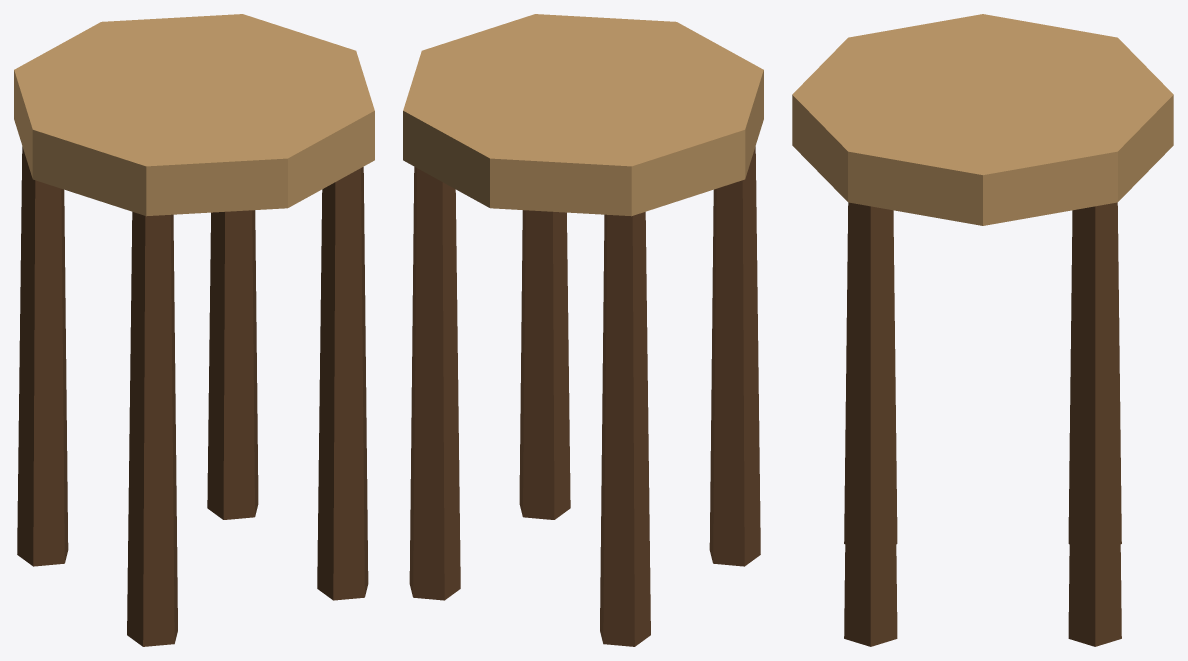
File: GT_Stool_01.glb
The picture shows the model from 3 angles, left to right: view 1: azimuth 30°, elevation 25°; view 2: azimuth 150°, elevation 25°; view 3: azimuth 270°, elevation 25°; orthographic projection. The views are drawn at different scales.
Parts seen in each view (by area): view 1: GT_Stool_01; view 2: GT_Stool_01; view 3: GT_Stool_01.
Part boxes in pixels (x1,y1,x2,y2): GT_Stool_01: (14, 14, 374, 646); GT_Stool_01: (403, 14, 763, 646); GT_Stool_01: (792, 14, 1173, 646).
Bounding box in the file's own units: 0.34 × 0.485 × 0.34.
Materials: 1 (1 with a texture image).
